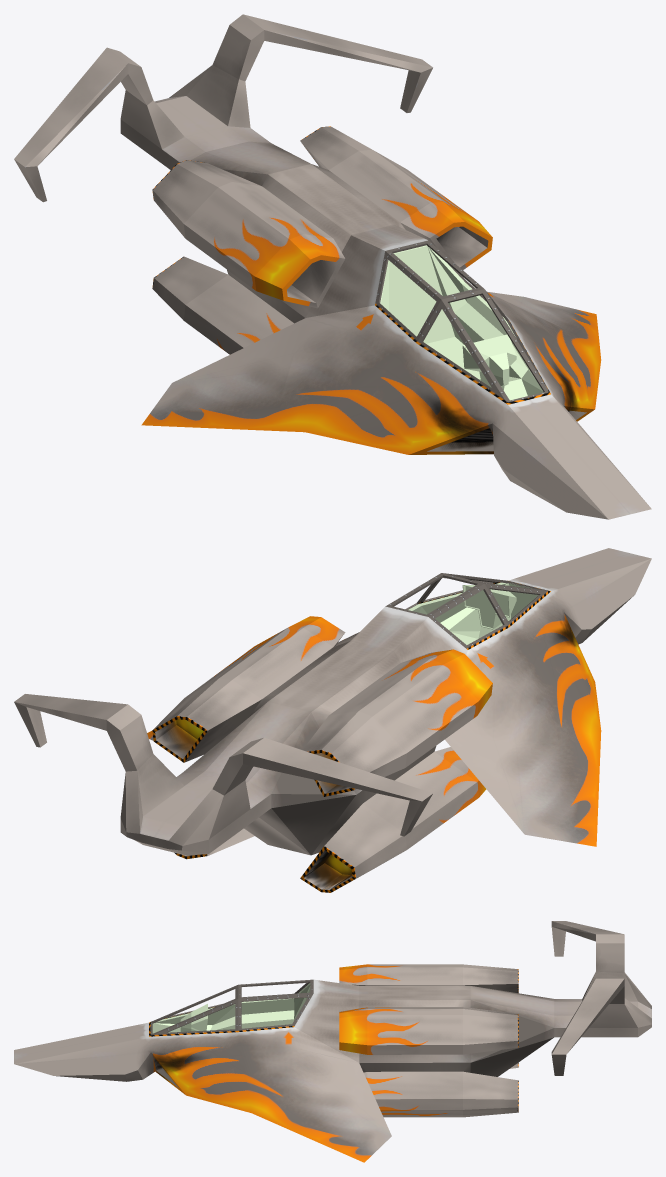
The model's file is lightning-with-interior.obj.
The picture shows the model from 3 angles, top to bottom: view 1: azimuth 30°, elevation 25°; view 2: azimuth 150°, elevation 25°; view 3: azimuth 270°, elevation 25°; orthographic projection. The views are drawn at different scales.
Parts seen in each view (by area): view 1: Lightning, Lightning_copy3; view 2: Lightning, Lightning_copy3; view 3: Lightning, Lightning_copy3.
Boxes of the visible parts, x1,y1,x2,y2 form: Lightning: [14, 14, 651, 519]; Lightning_copy3: [375, 240, 550, 404]; Lightning: [14, 548, 651, 892]; Lightning_copy3: [385, 573, 550, 649]; Lightning: [14, 921, 651, 1162]; Lightning_copy3: [149, 979, 313, 1036].
Bounding box in the file's own units: 6.54 × 2.81 × 11.84.
2 materials, 1 textured.
